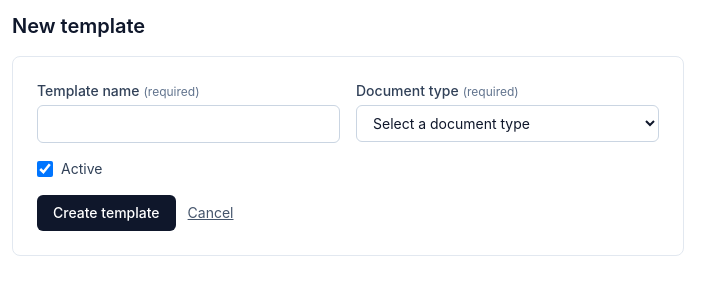
Scenario: TemplateCreatePage › blocks submission without required fields and does not POST
Expected: the field labelled "Template name(required)" is shown, [37,105,340,143]
Click the button "Create template".
click(106, 213)  # box [37,195,176,231]
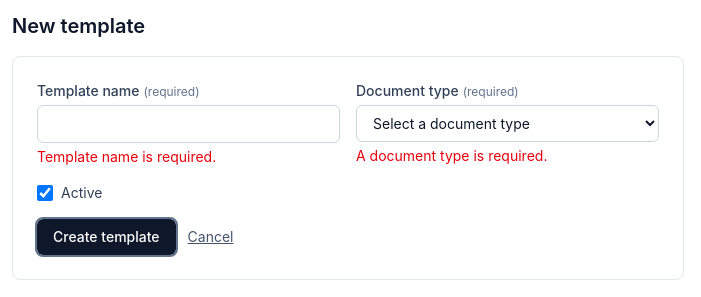
Expected: the text "Template name is required." is shown, [37,148,216,165]
Expected: the text "A document type is required." is shown, [356,147,547,164]
